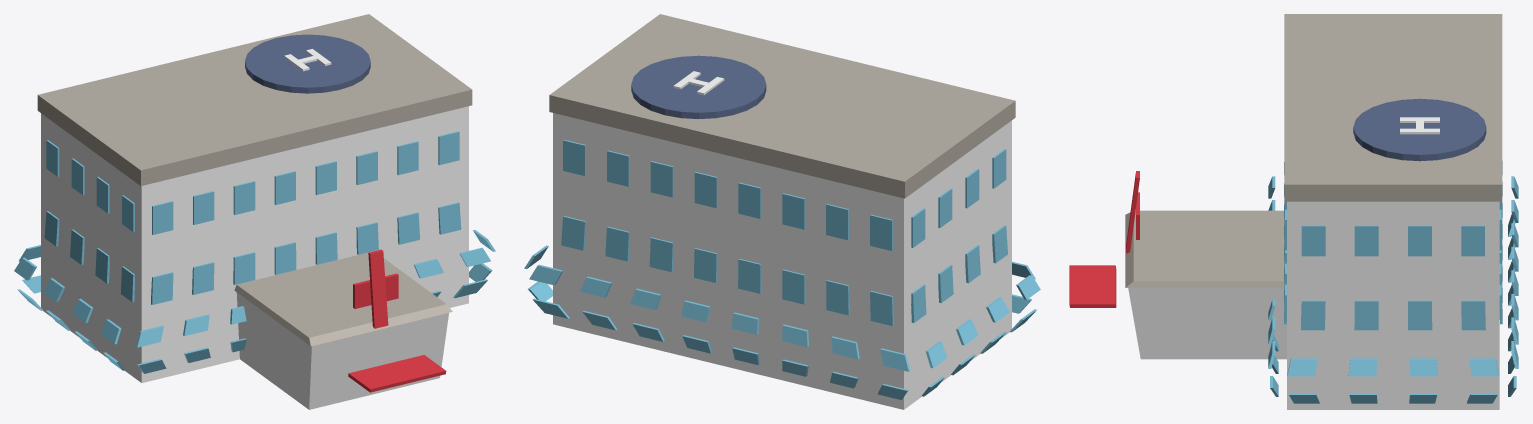
The model's file is hospital.glb.
3 renders of one model, left to right at view 1: azimuth 30°, elevation 25°; view 2: azimuth 150°, elevation 25°; view 3: azimuth 270°, elevation 25°, orthographic. The views are drawn at different scales.
Parts seen in each view (by area): view 1: hospital_white, hospital_roof_flat, hospital_window, hospital_roof_slate, hospital_red; view 2: hospital_white, hospital_roof_flat, hospital_window, hospital_roof_slate; view 3: hospital_white, hospital_roof_flat, hospital_window, hospital_roof_slate, hospital_red.
Boxes of the visible parts, bbox=[...] form: hospital_white: bbox=[41, 49, 468, 409]; hospital_roof_flat: bbox=[37, 14, 472, 346]; hospital_window: bbox=[14, 131, 495, 373]; hospital_roof_slate: bbox=[245, 34, 370, 93]; hospital_red: bbox=[348, 249, 446, 392]; hospital_white: bbox=[553, 71, 1011, 409]; hospital_roof_flat: bbox=[549, 14, 1015, 198]; hospital_window: bbox=[524, 139, 1040, 399]; hospital_roof_slate: bbox=[631, 55, 766, 118]; hospital_white: bbox=[1128, 117, 1499, 409]; hospital_roof_flat: bbox=[1125, 14, 1502, 287]; hospital_window: bbox=[1268, 161, 1518, 403]; hospital_roof_slate: bbox=[1353, 98, 1486, 161]; hospital_red: bbox=[1069, 171, 1139, 307].
Size of the model in its own units: 36.4 by 20.25 by 35.12.
